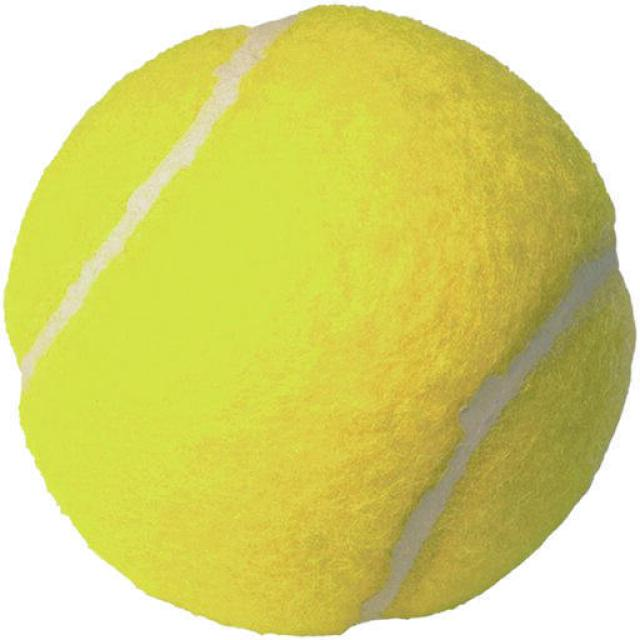Tennis Ball: (0, 4, 639, 640)
